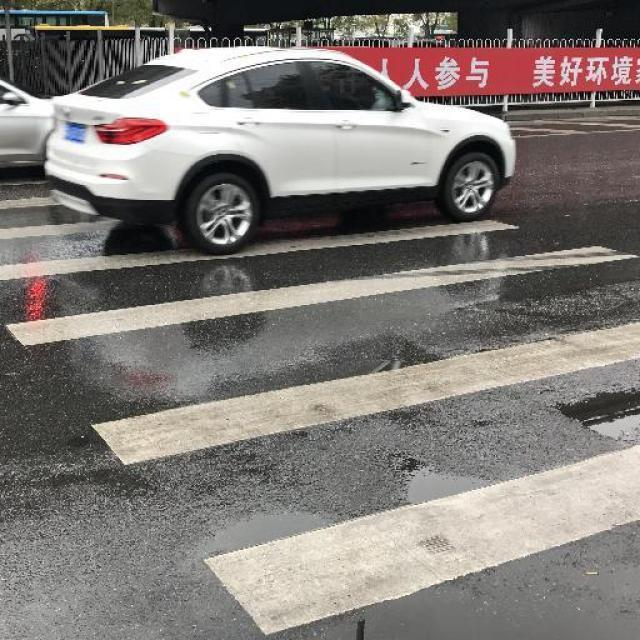crosswalk: (1, 195, 640, 640)
